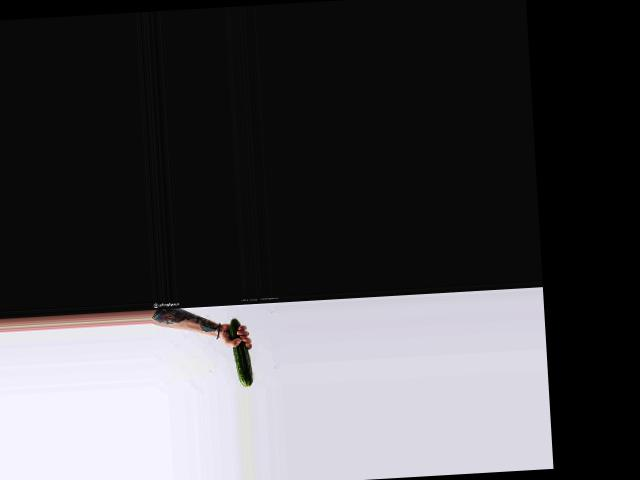cucumber: (229, 318, 254, 387)
